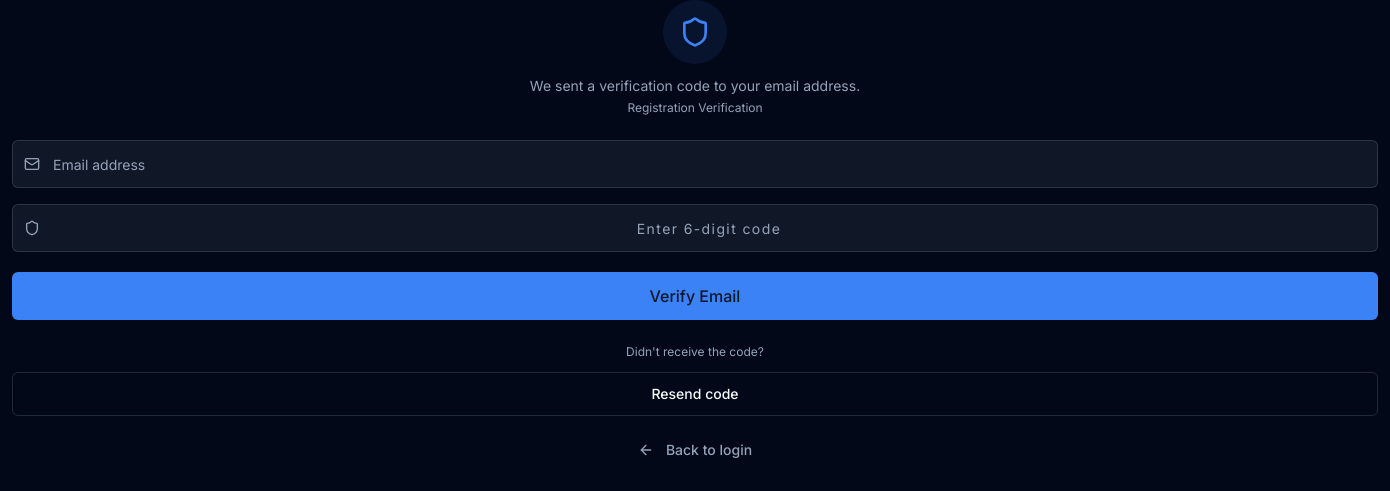
it: VerifyForm › keeps the email field visible while typing when nothing is stored
In the field with placeholder "Email address": (695, 164) [12, 140, 1378, 188], type "jane@example.com"
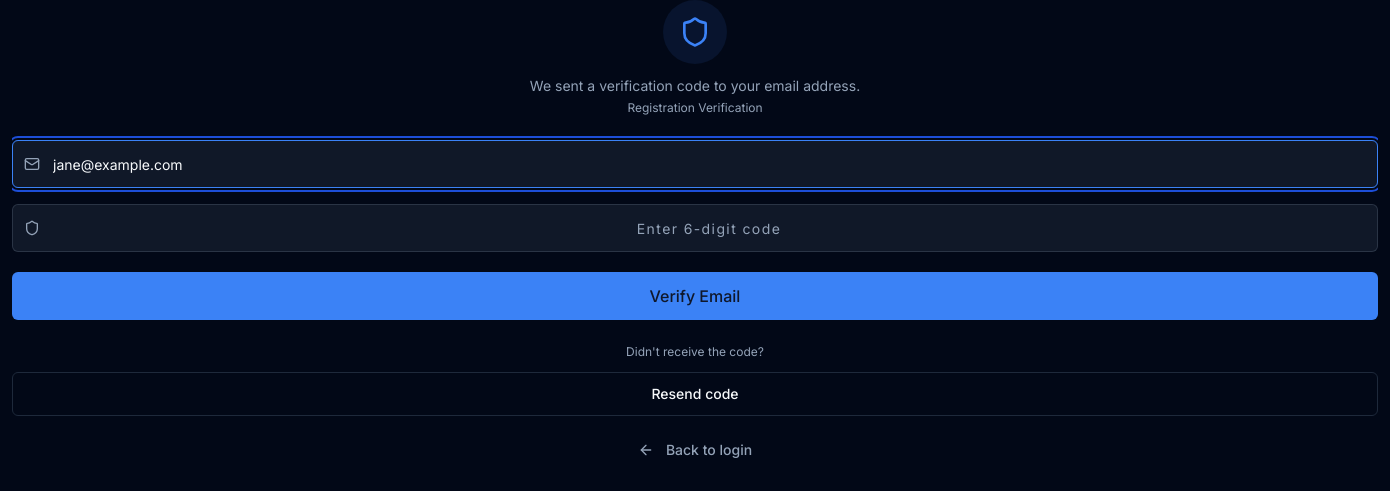
In the field with placeholder "Enter 6-digit code": (695, 228) [12, 204, 1378, 252], type "123"
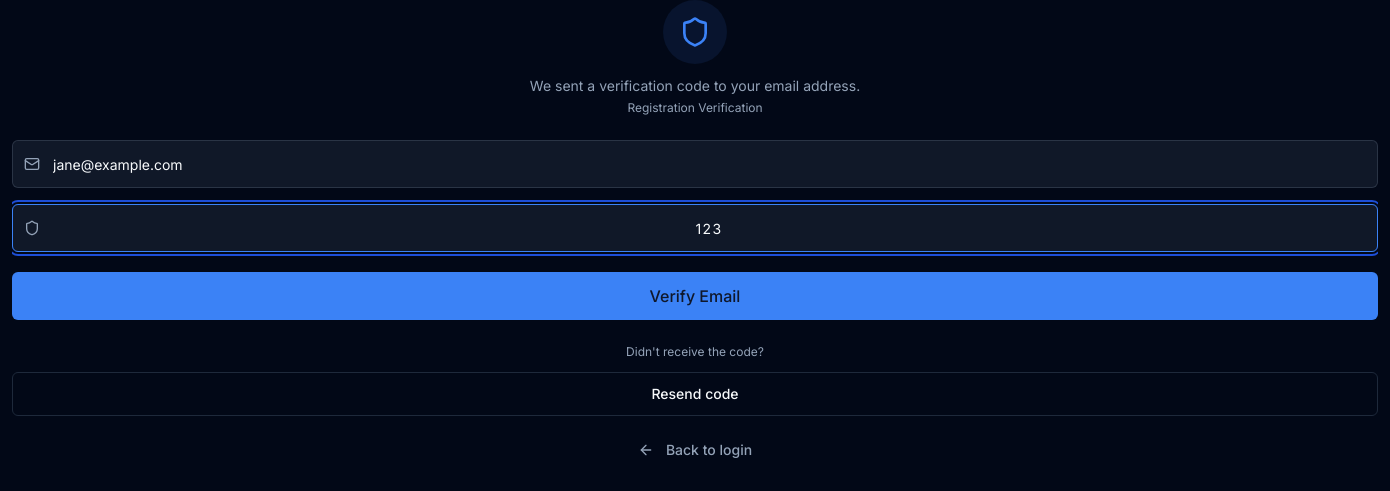
Click the button "Verify Email": (695, 296) [12, 272, 1378, 320]
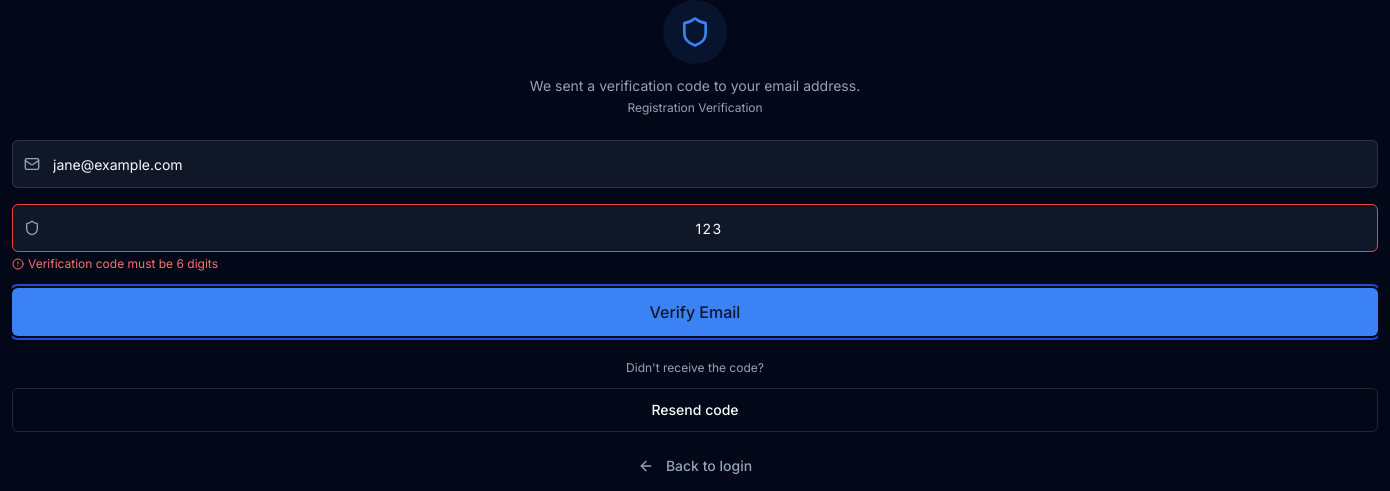
Result: the text "Verification code must be 6 digits" is shown at [28, 256, 218, 272]
